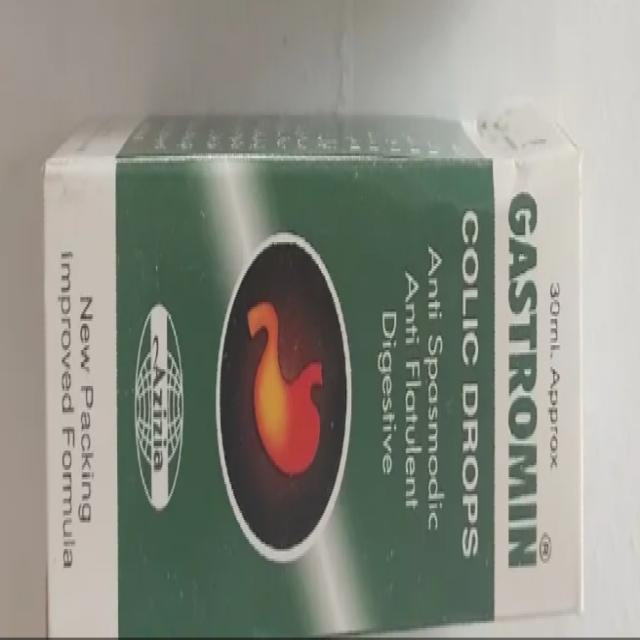drug-name: (504, 186, 544, 579)
